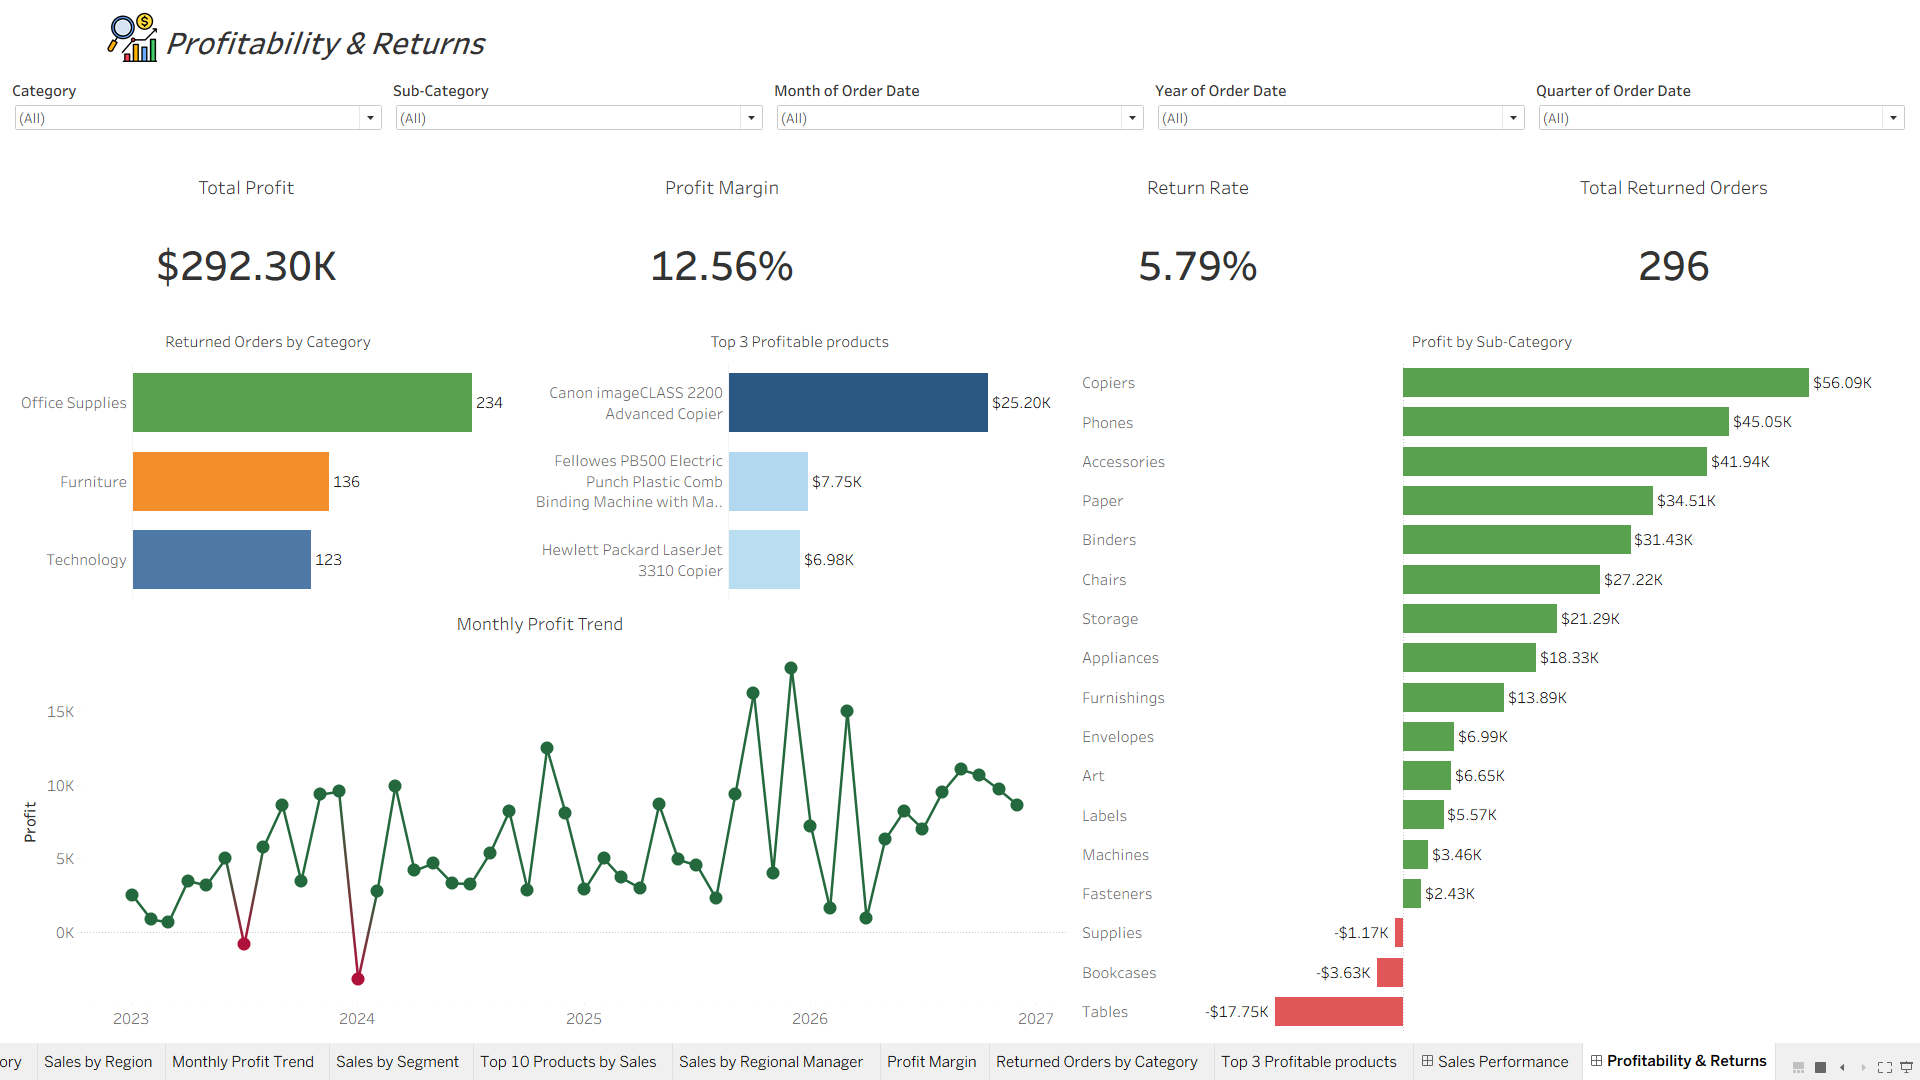

This screenshot's page, from the dashboard's own definition file:
{"tool":"tableau","page":{"name":"Profitability & Returns","canvas":[1400,850],"ordinal":0},"visuals":[{"type":"title","box":[8,8,1384,68]},{"type":"image","param":"Image/financial-forecasting.png","box":[97,26,39,41]},{"type":"filter","title":"Profit Margin","param":"[federated.17jq99y0l6ibxz1crijgj0ft7ye0].[none:Category:nk]","box":[8,76,277,71]},{"type":"filter","title":"Profit by Sub-Category","param":"[federated.17jq99y0l6ibxz1crijgj0ft7ye0].[none:Sub-Category:nk]","box":[285,76,277,71]},{"type":"filter","title":"Profit Margin","param":"[federated.17jq99y0l6ibxz1crijgj0ft7ye0].[mn:Order Date:ok]","box":[562,76,277,71]},{"type":"filter","title":"Profit Margin","param":"[federated.17jq99y0l6ibxz1crijgj0ft7ye0].[yr:Order Date:ok]","box":[839,76,277,71]},{"type":"filter","title":"Profit Margin","param":"[federated.17jq99y0l6ibxz1crijgj0ft7ye0].[qr:Order Date:ok]","box":[1116,76,276,71]},{"type":"worksheet","title":"Total Profit","mark":"Automatic","box":[8,147.5,346,103.5]},{"type":"worksheet","title":"Profit Margin","mark":"Automatic","box":[354,147.5,346,103.5]},{"type":"worksheet","title":"Return Rate","mark":"Automatic","box":[700,147.5,346,103.5]},{"type":"worksheet","title":"Total Returned Orders","mark":"Automatic","box":[1046,147.5,346,103.5]},{"type":"worksheet","title":"Returned Orders by Category","mark":"Automatic","rows":["Category"],"cols":["Order ID (Returns)"],"box":[8,251,428,280]},{"type":"worksheet","title":"Top 3 Profitable products","mark":"Automatic","rows":["Product Name"],"cols":["Profit"],"box":[436,251,563,280]},{"type":"worksheet","title":"Profit by Sub-Category","mark":"Automatic","rows":["Sub-Category"],"cols":["Profit"],"box":[999,251,393,591]},{"type":"worksheet","title":"Monthly Profit Trend","mark":"Automatic","rows":["Profit","Profit"],"cols":["Order Date"],"box":[8,531,991,311]}]}

Visuals, with their boxes on the page's 1400x850 design canvas (x1, y1, x2, y2). These are canvas units, not pixel positions in the 1920x1080 screenshot, which may show the page scaled, cropped or inside an application window:
title: 8:8:1392:76
image: 97:26:136:67
"Profit Margin" filter: 8:76:285:147
"Profit by Sub-Category" filter: 285:76:562:147
"Profit Margin" filter: 562:76:839:147
"Profit Margin" filter: 839:76:1116:147
"Profit Margin" filter: 1116:76:1392:147
"Total Profit" worksheet: 8:148:354:251
"Profit Margin" worksheet: 354:148:700:251
"Return Rate" worksheet: 700:148:1046:251
"Total Returned Orders" worksheet: 1046:148:1392:251
"Returned Orders by Category" worksheet: 8:251:436:531
"Top 3 Profitable products" worksheet: 436:251:999:531
"Profit by Sub-Category" worksheet: 999:251:1392:842
"Monthly Profit Trend" worksheet: 8:531:999:842
